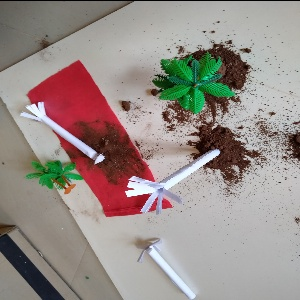plant: (142, 46, 249, 116), (23, 158, 87, 201)
weed: (118, 169, 240, 225), (18, 98, 109, 169), (131, 244, 204, 300)
